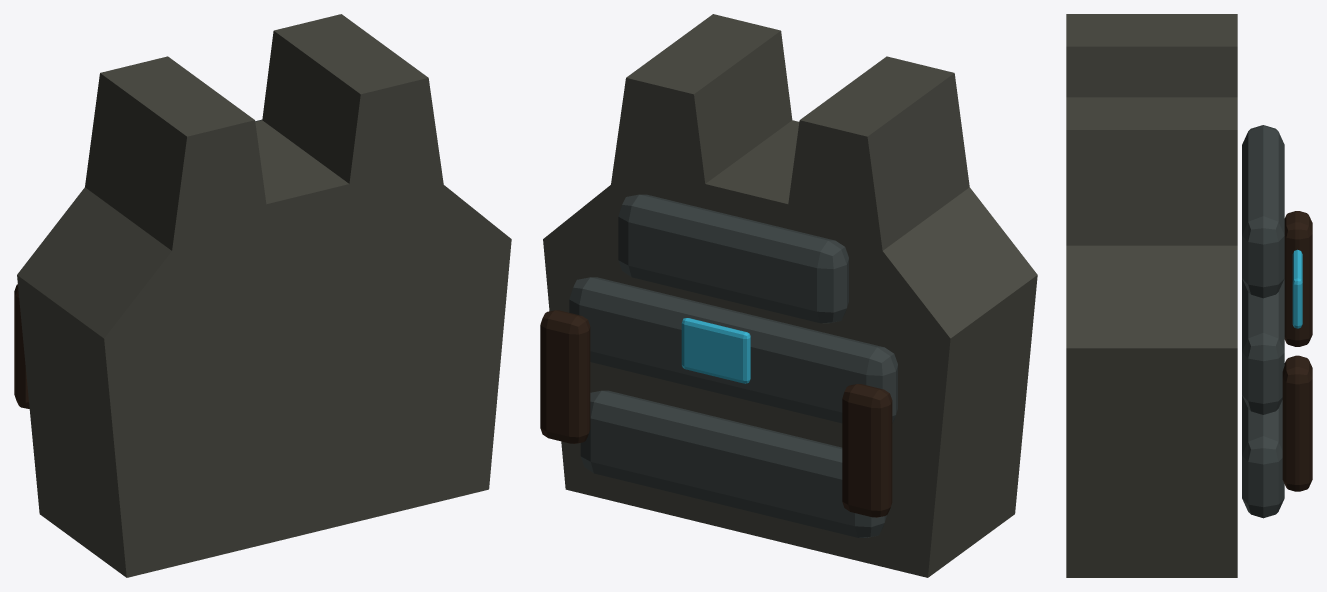
The model's file is noir-armor-pickup.glb.
3 views of the same model, side by side, from view 1: azimuth 30°, elevation 25°; view 2: azimuth 150°, elevation 25°; view 3: azimuth 270°, elevation 25° (orthographic).
Visible parts, largest first — view 1: noir-armor-pickup mesh; view 2: noir-armor-pickup mesh; view 3: noir-armor-pickup mesh.
Part boxes in pixels (box(x1,y1,x2,y2)): noir-armor-pickup mesh: box(14, 14, 511, 577); noir-armor-pickup mesh: box(540, 14, 1037, 577); noir-armor-pickup mesh: box(1066, 14, 1312, 577).
Bounding box in the file's own units: 0.54 × 0.54 × 0.2875.
